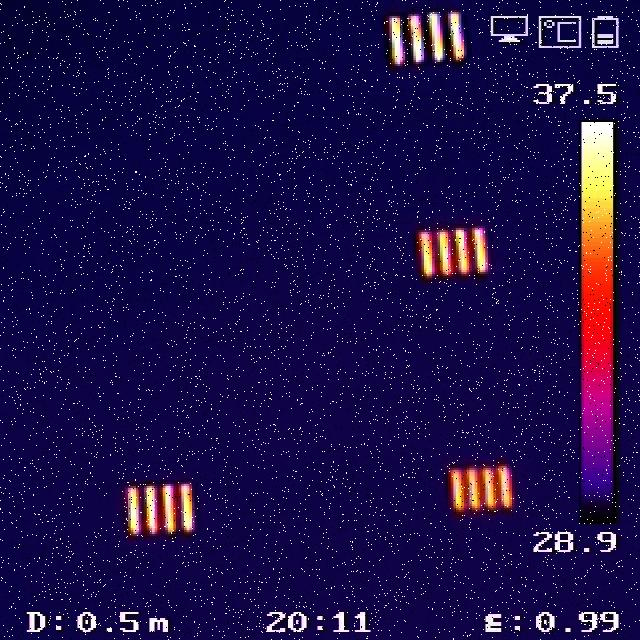Distinguishable 4-bar target: (377, 8, 472, 66), (124, 486, 200, 534), (418, 229, 486, 277), (452, 467, 519, 510)
